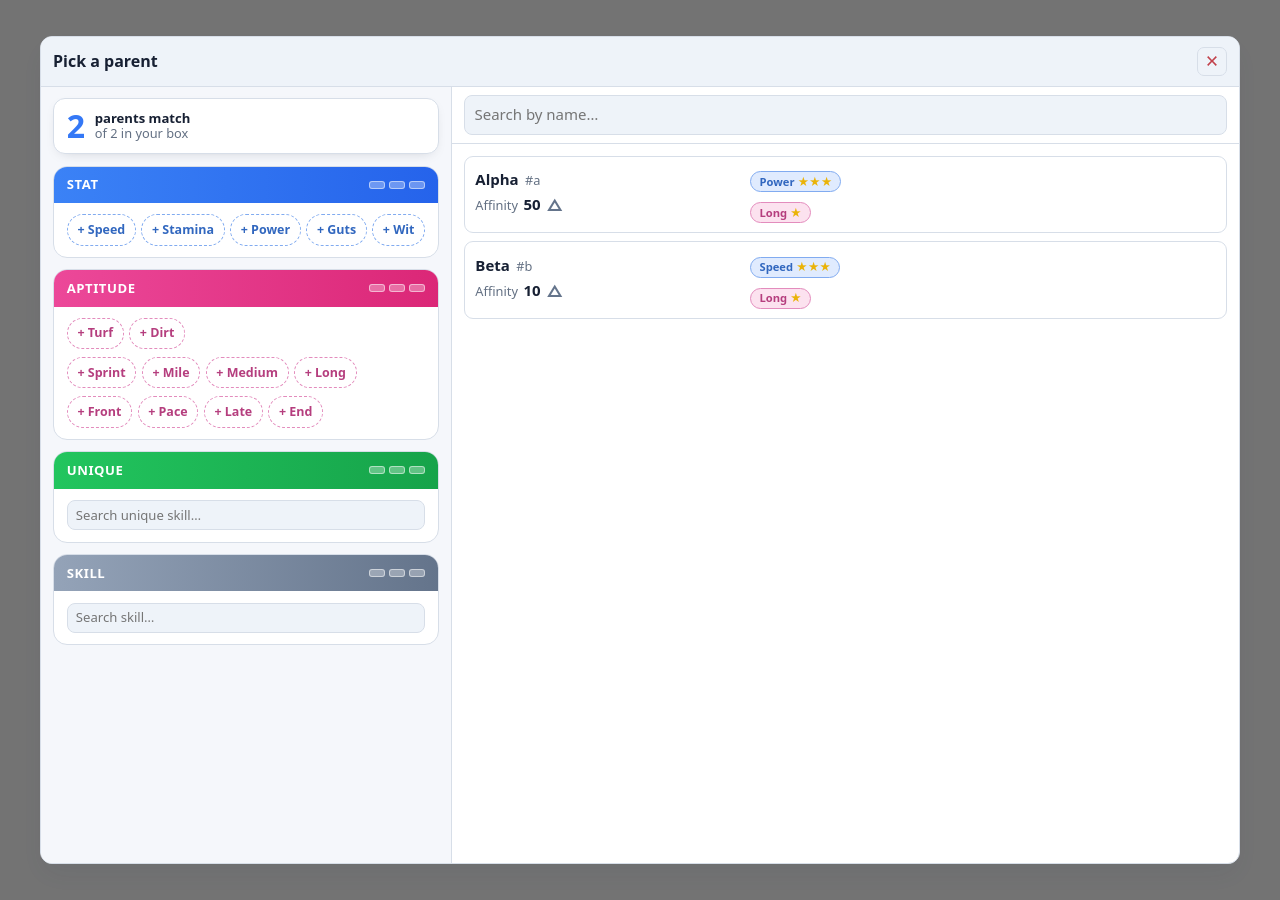
Test: UmaPickerModal › green search supports keyboard nav (↓ then Enter picks the highlighted option)
Type "vit" into the dropdown labelled "Search unique skill…". click: [246, 515]
box: [67, 500, 425, 530]
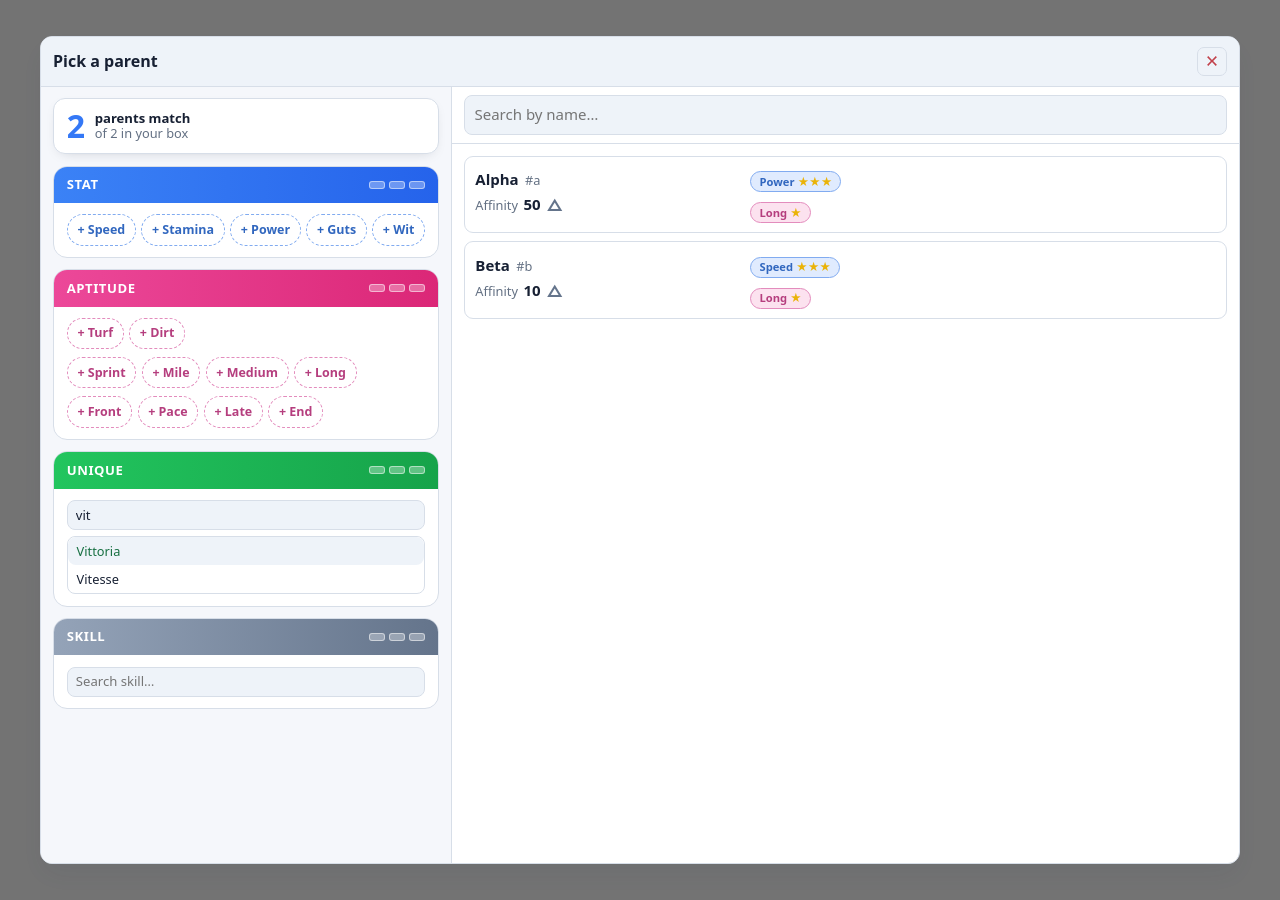
Press ArrowDown in the dropdown named "Search unique skill", box [67, 500, 425, 530]
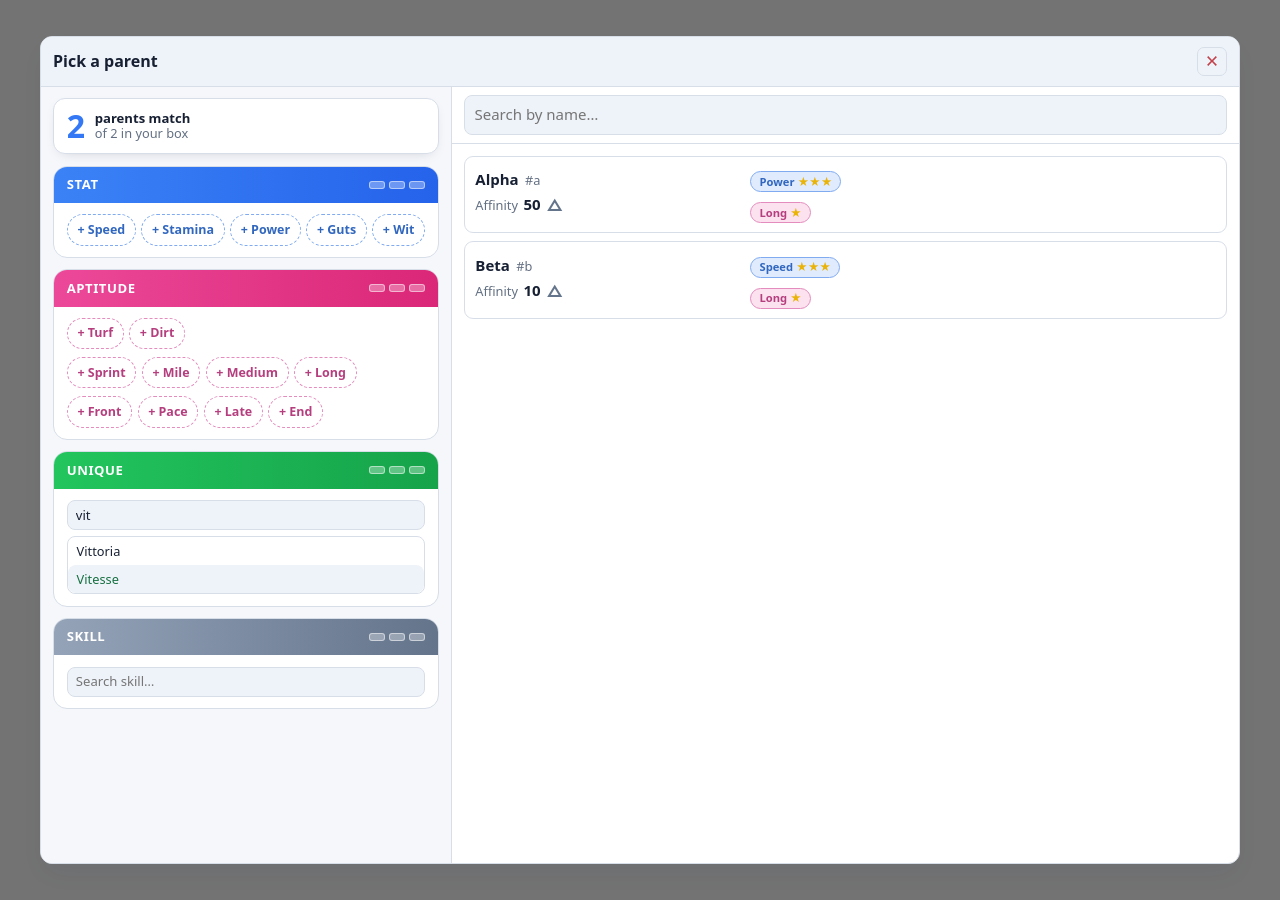
Press Enter in the dropdown named "Search unique skill", box [67, 500, 425, 530]
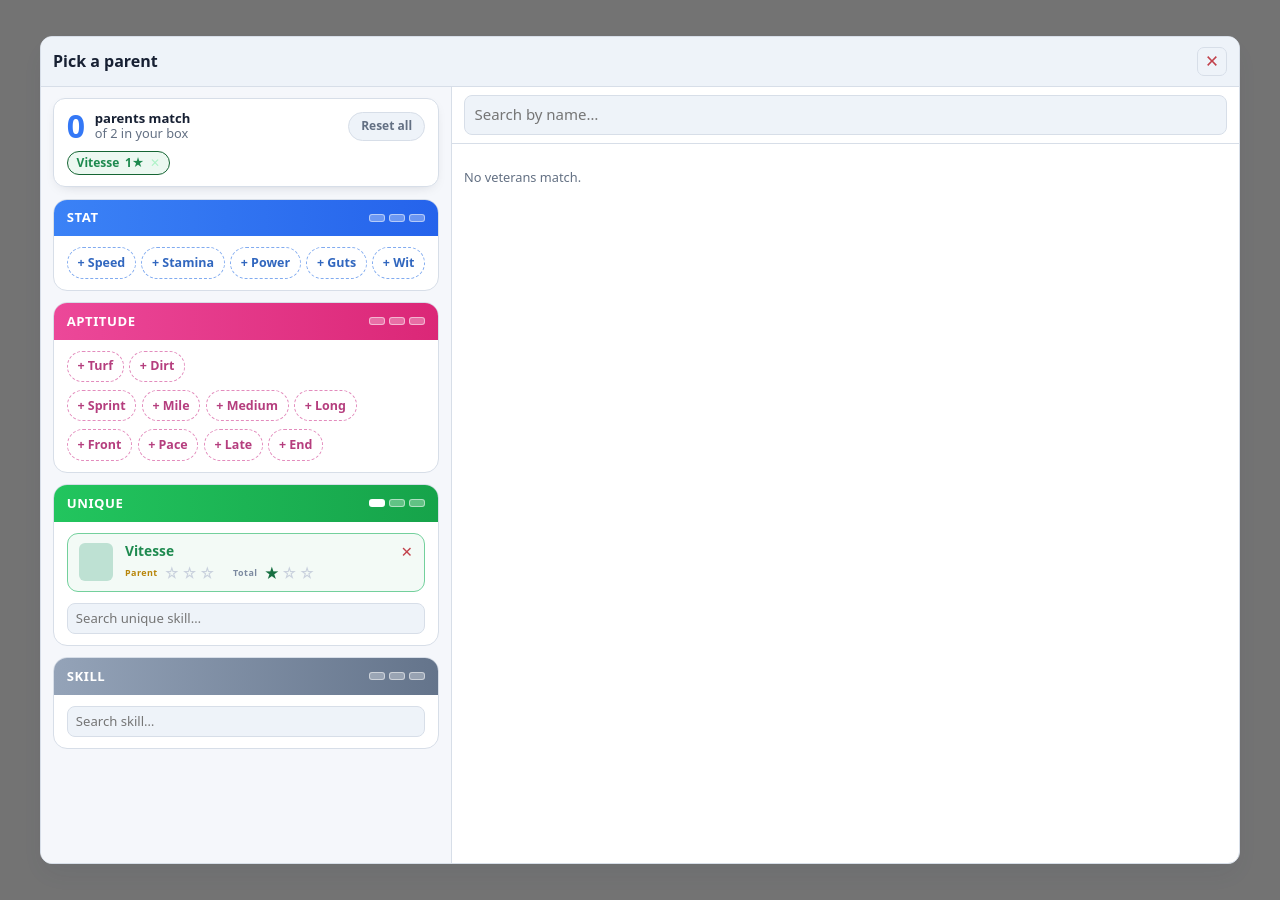
Now the button named "Vitesse own 1" is shown, box [164, 566, 180, 581]
